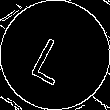L_NE: (29, 25, 81, 85)
